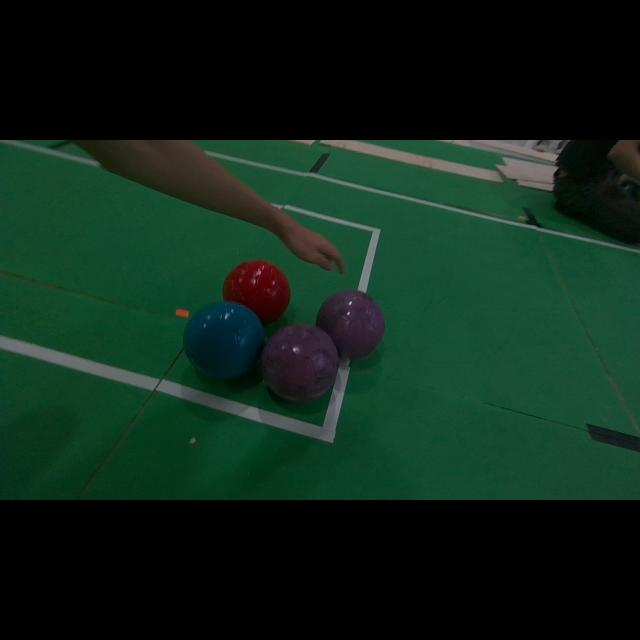B: (184, 301, 265, 379)
P: (261, 324, 339, 402), (316, 290, 385, 359)
R: (222, 260, 291, 325)
